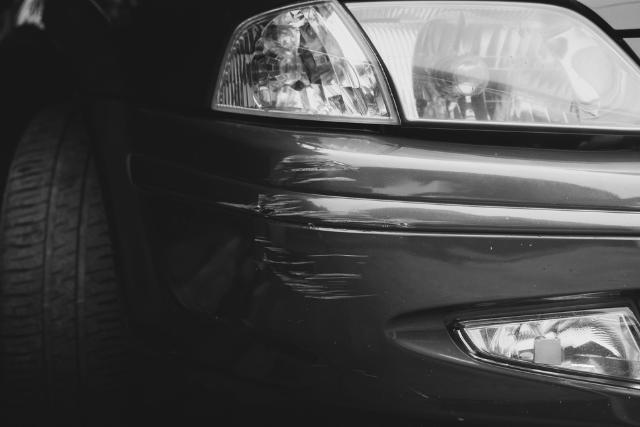Bumper: (216, 148, 542, 305)
